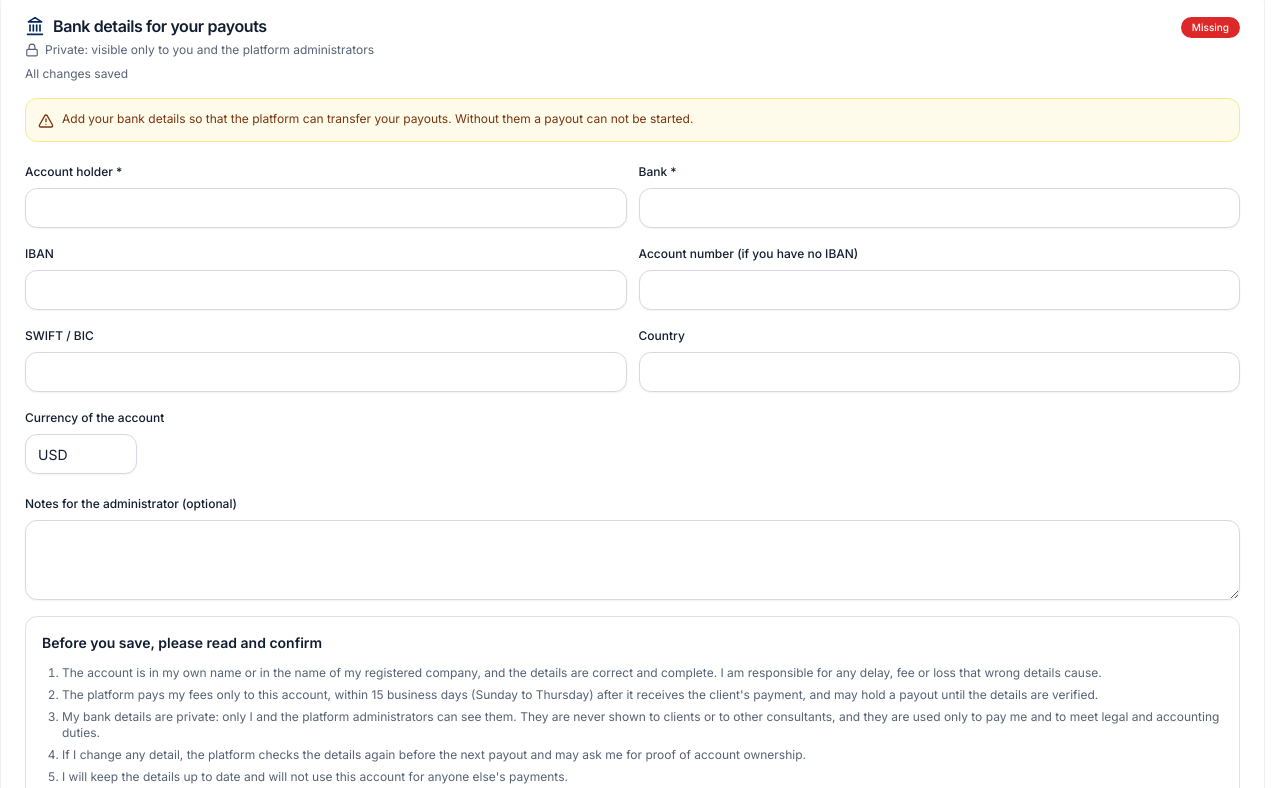
PayoutDetailsCard › shows the account-number rule next to the field and keeps saving disabled
Expected: the text "Before you save, please read and confirm" is shown, [42, 634, 322, 651]
In the field labelled "Account holder *": (326, 208) [25, 188, 626, 228], type "Jane Doe"
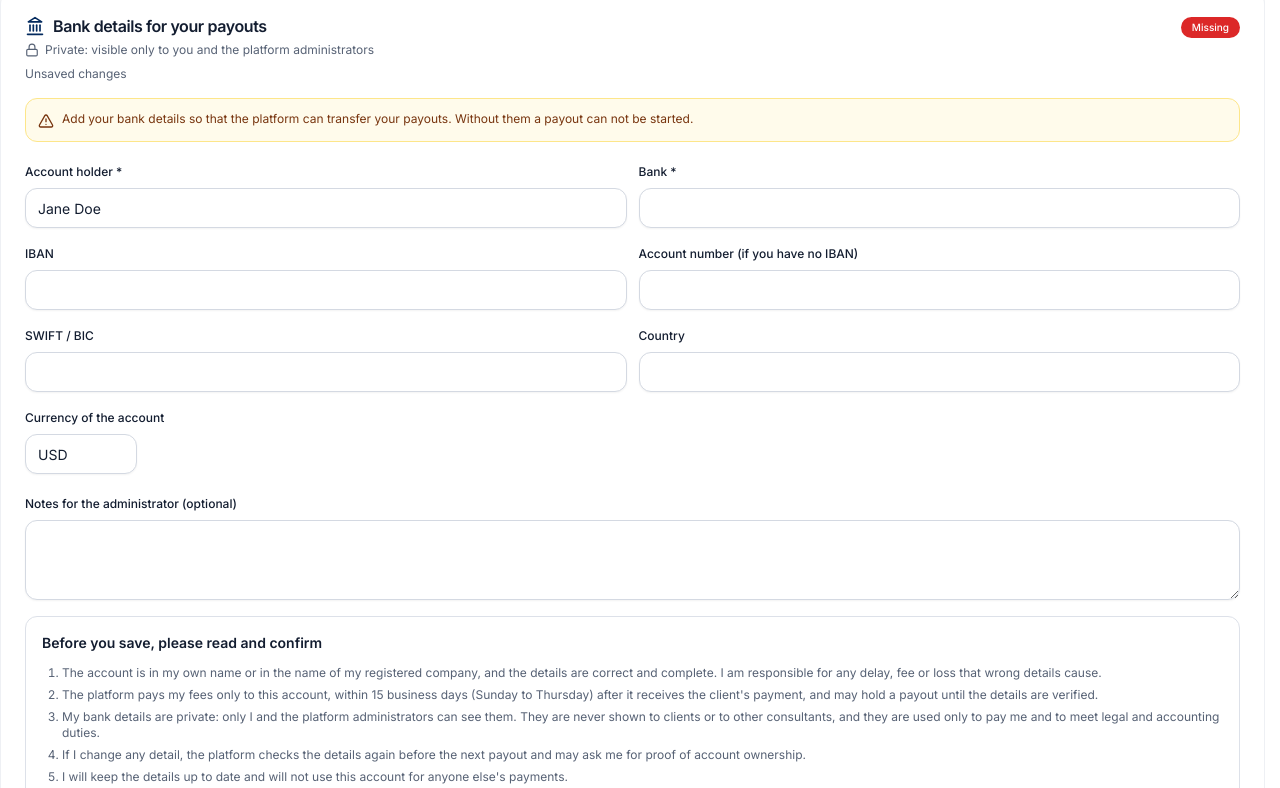
In the field labelled "Bank *": (939, 208) [638, 188, 1240, 228], type "Test Bank"
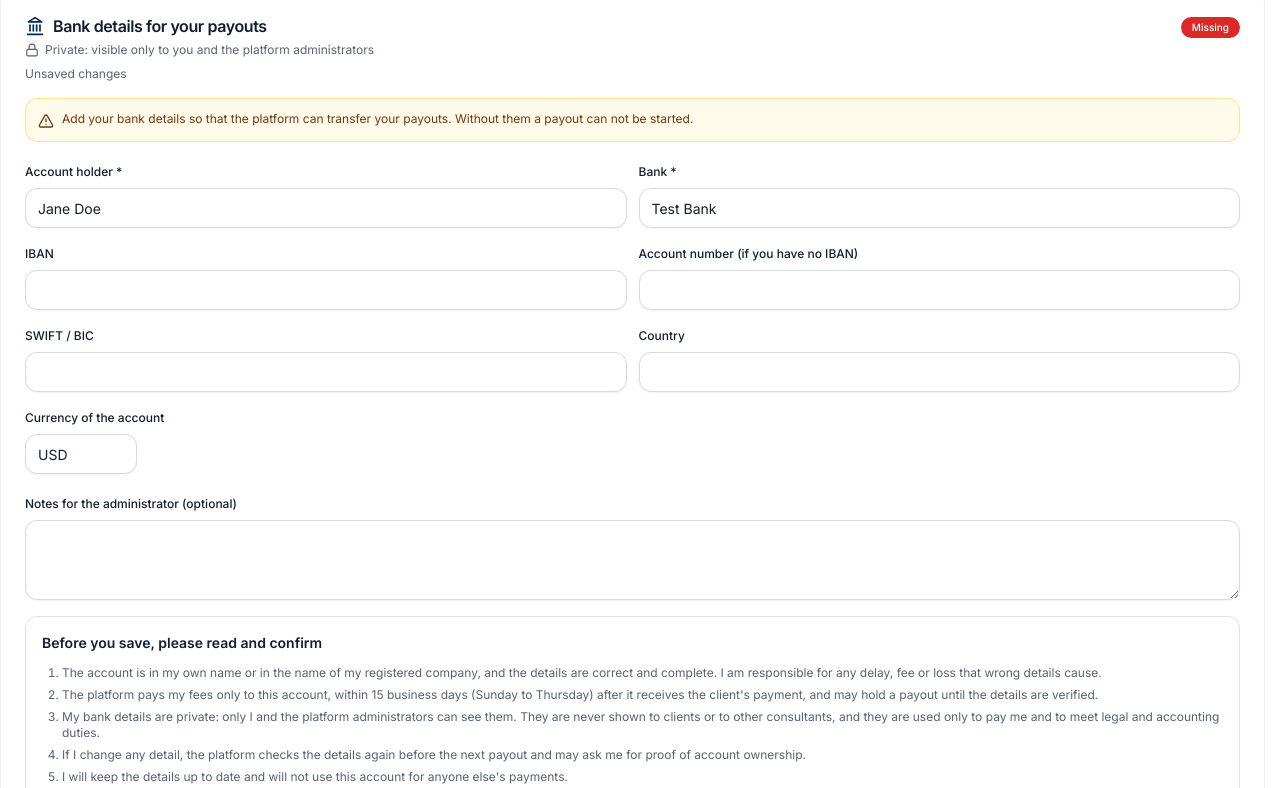
In the field labelled "Account number (if you have no IBAN)": (939, 290) [638, 270, 1240, 310], type "12"
(page scrolled)
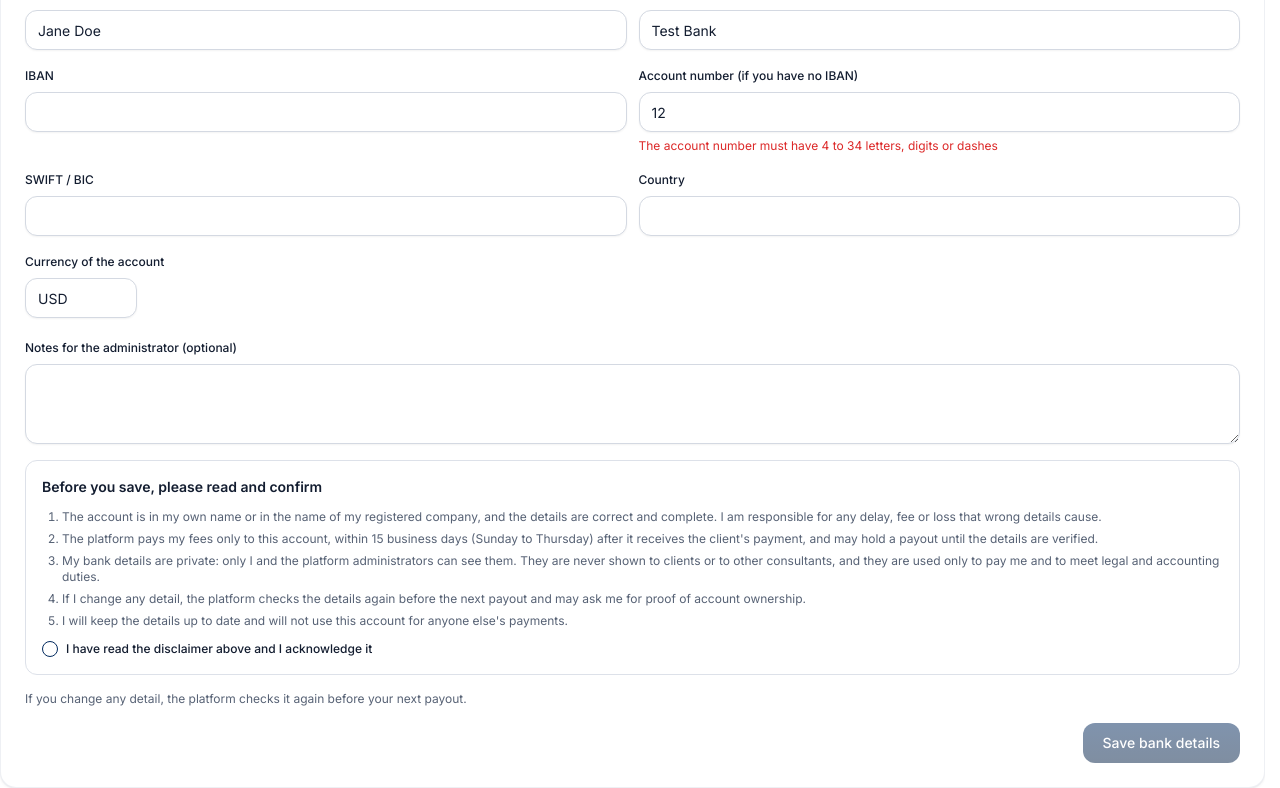
Click the checkbox: (50, 649) [42, 641, 58, 657]
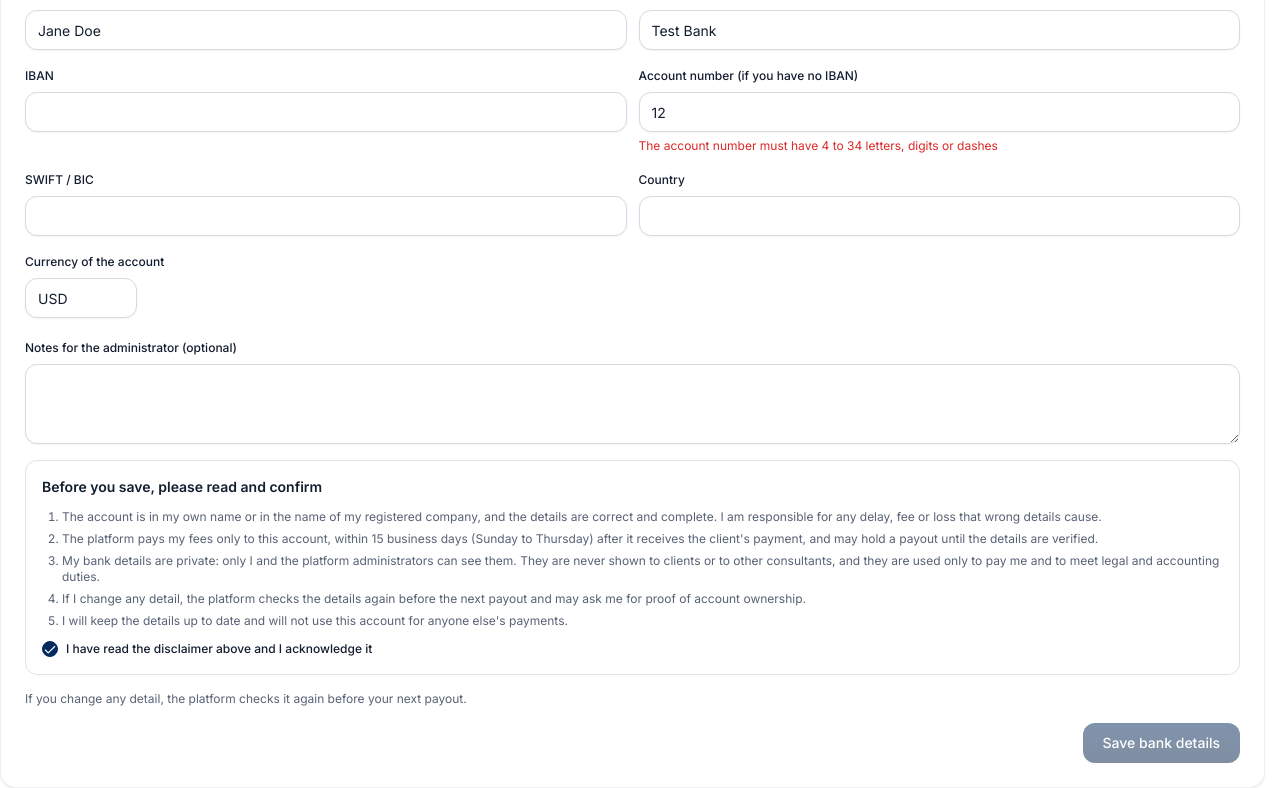
Result: the text "The account number must have 4 to 34 letters, digits or dashes" is shown at [638, 138, 998, 153]
Replace the text in the field labelled "Account number (if you have no IBAN)" with "12_34": (939, 112) [638, 92, 1240, 132]
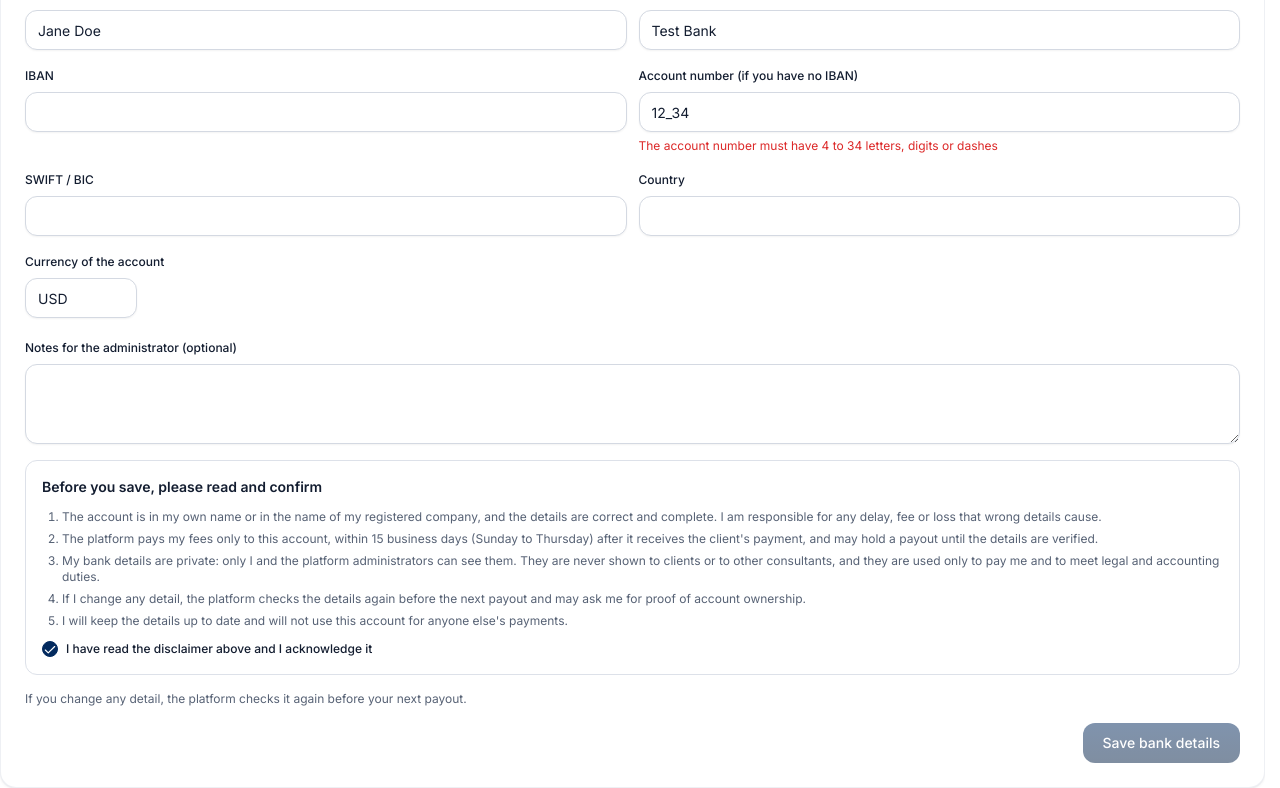
Result: the text "The account number must have 4 to 34 letters, digits or dashes" is shown at [638, 138, 998, 153]
Replace the text in the field labelled "Account number (if you have no IBAN)" with "1234-5678": (939, 112) [638, 92, 1240, 132]
(page scrolled)
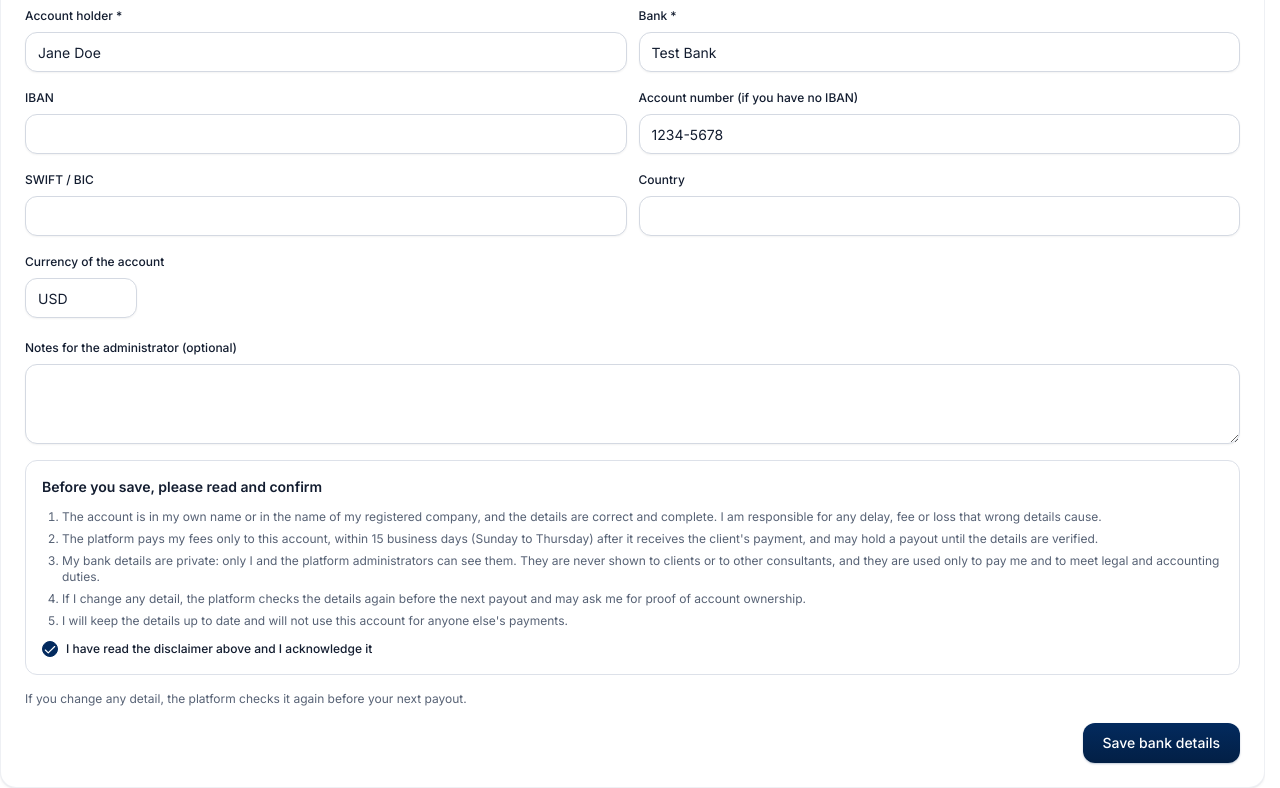
Result: the text "The account number must have 4 to 34 letters, digits or dashes" is gone
